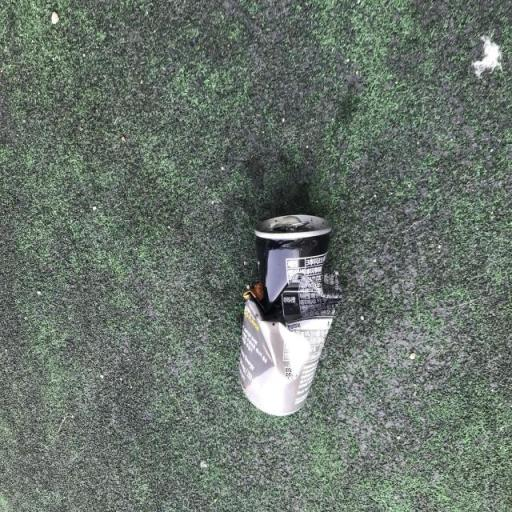metal: (216, 192, 354, 447)
